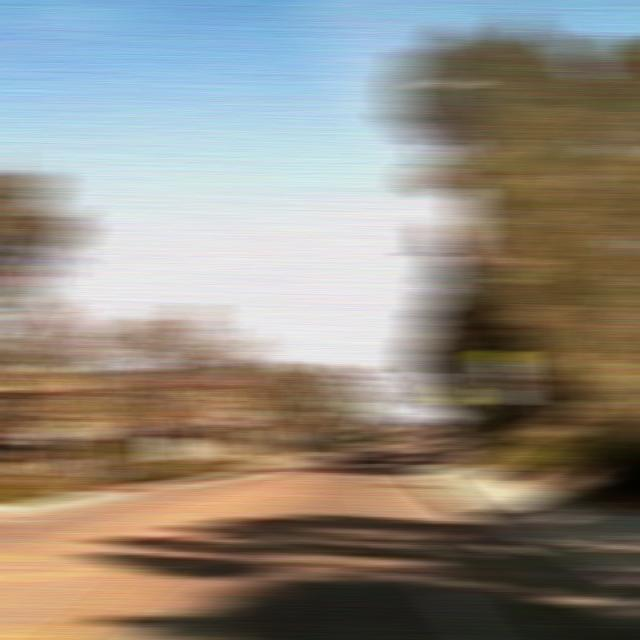speedLimit25: (479, 348, 525, 405)
